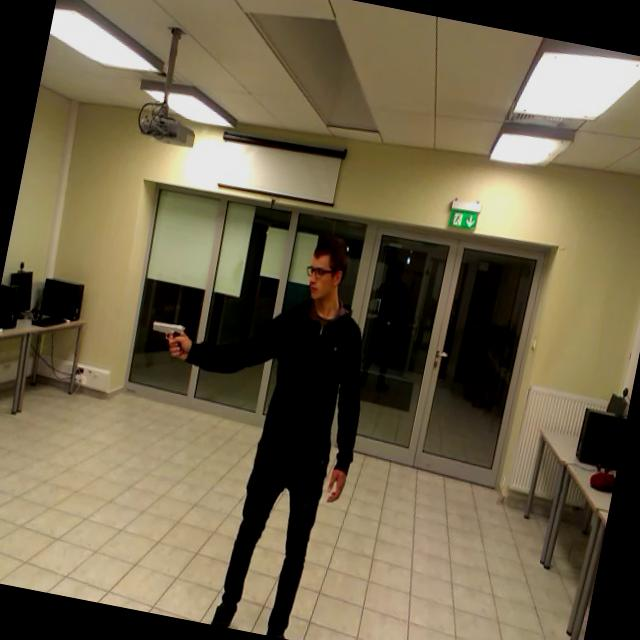handgun: (136, 306, 202, 371)
